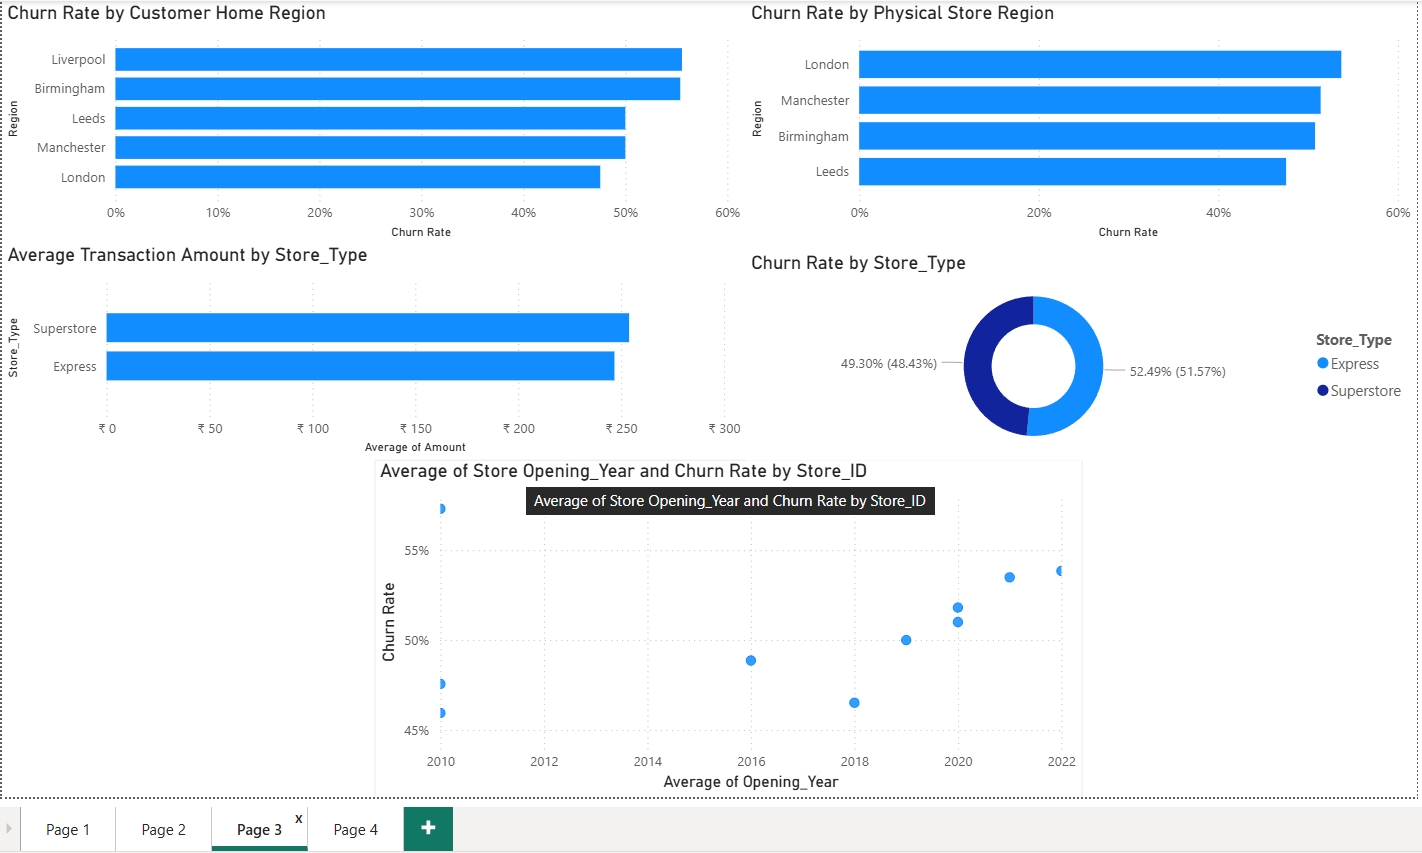

What the dashboard file says about the page in this screenshot:
{"tool":"powerbi","page":{"name":"Page 3","canvas":[1280,720],"ordinal":2},"visuals":[{"type":"clusteredBarChart","title":"Average Transaction Amount by Store_Type","fields":{"Category":["Store_Locations.Store_Type"],"Y":["Avg(Customer_Transactions.Amount)"]},"box":[0,219.8,673.3,195.3],"z":0},{"type":"clusteredBarChart","title":"Churn Rate by Physical Store Region","fields":{"Category":["Store_Locations.Region"],"Y":["Customer_Demographics.Churn Rate"]},"box":[673.3,0,607,219.8],"z":1000},{"type":"scatterChart","title":"Average of Store Opening_Year and Churn Rate by Store_ID","fields":{"Category":["Store_Locations.Store_ID"],"Y":["Customer_Demographics.Churn Rate"],"X":["Store_Locations.Opening_Year"]},"box":[337.2,415.1,639.5,304.7],"z":2000},{"type":"donutChart","fields":{"Category":["Store_Locations.Store_Type"],"Y":["Customer_Demographics.Churn Rate"]},"box":[673.3,225.6,607,189.5],"z":3000},{"type":"clusteredBarChart","title":"Churn Rate by Customer Home Region","fields":{"Category":["Customer_Demographics.Region"],"Y":["Customer_Demographics.Churn Rate"]},"box":[0,0,673.3,219.8],"z":4000},{"type":"slicer","fields":{"Values":["Store_Locations.Store_Type"]},"box":[951.7,0,328.3,176.7],"z":5000},{"type":"slicer","fields":{"Values":["Customer_Demographics.Region"]},"box":[25,0,306.1,176.7],"z":6000},{"type":"slicer","fields":{"Values":["Customer_Demographics.Income_Group"]},"box":[331.1,0,308.9,176.7],"z":7000},{"type":"slicer","fields":{"Values":["Loyalty_Program.Loyalty_Tier"]},"box":[640,0,311.7,176.7],"z":8000}]}

Visuals, with their boxes on the page's 1280x720 design canvas (x1, y1, x2, y2). These are canvas units, not pixel positions in the 1422x853 screenshot, which may show the page scaled, cropped or inside an application window:
"Average Transaction Amount by Store_Type" clusteredBarChart: <region>0, 220, 673, 415</region>
"Churn Rate by Physical Store Region" clusteredBarChart: <region>673, 0, 1280, 220</region>
"Average of Store Opening_Year and Churn Rate by Store_ID" scatterChart: <region>337, 415, 977, 720</region>
donutChart - Store_Locations.Store_Type x Customer_Demographics.Churn Rate: <region>673, 226, 1280, 415</region>
"Churn Rate by Customer Home Region" clusteredBarChart: <region>0, 0, 673, 220</region>
slicer - Store_Locations.Store_Type: <region>952, 0, 1280, 177</region>
slicer - Customer_Demographics.Region: <region>25, 0, 331, 177</region>
slicer - Customer_Demographics.Income_Group: <region>331, 0, 640, 177</region>
slicer - Loyalty_Program.Loyalty_Tier: <region>640, 0, 952, 177</region>
